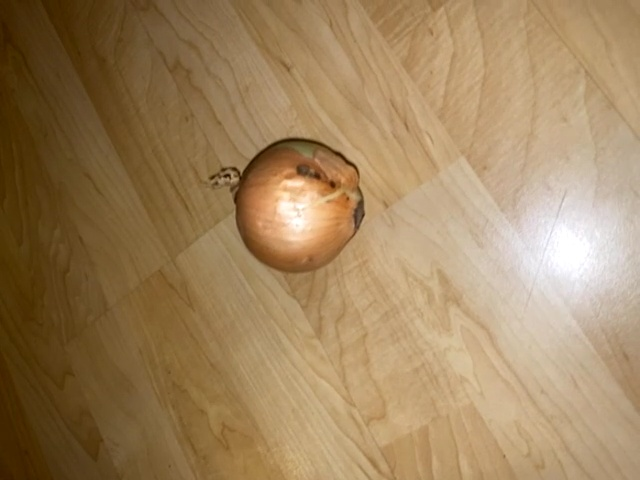onion: (204, 131, 371, 278)
